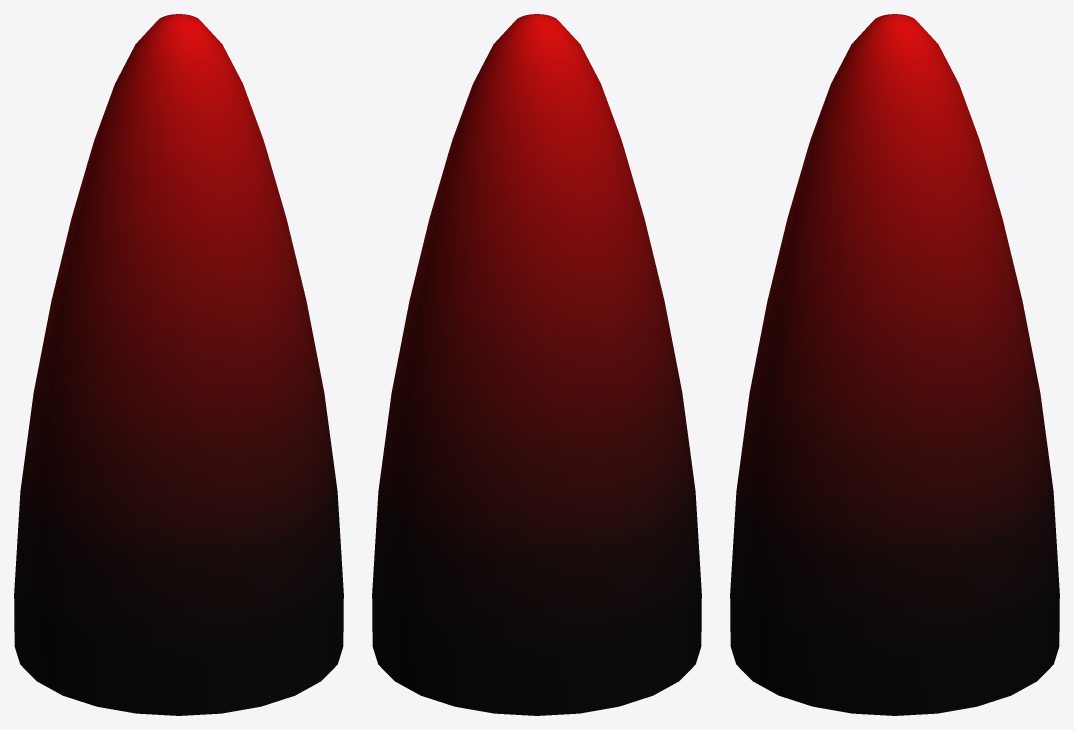
The model's file is fire_bullet.fbx.
3 views of the same model, side by side, from view 1: azimuth 30°, elevation 25°; view 2: azimuth 150°, elevation 25°; view 3: azimuth 270°, elevation 25° (orthographic).
Visible parts, largest first — view 1: transform3; view 2: transform3; view 3: transform3.
Boxes of the visible parts, left/top/right/bottom form: transform3: left=14, top=14, right=343, bottom=715; transform3: left=372, top=14, right=701, bottom=715; transform3: left=730, top=14, right=1059, bottom=715.
Size of the model in its own units: 160 by 338 by 160.
